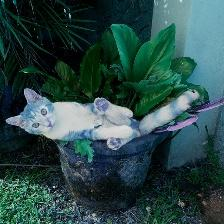kedo: (6, 88, 198, 150)
